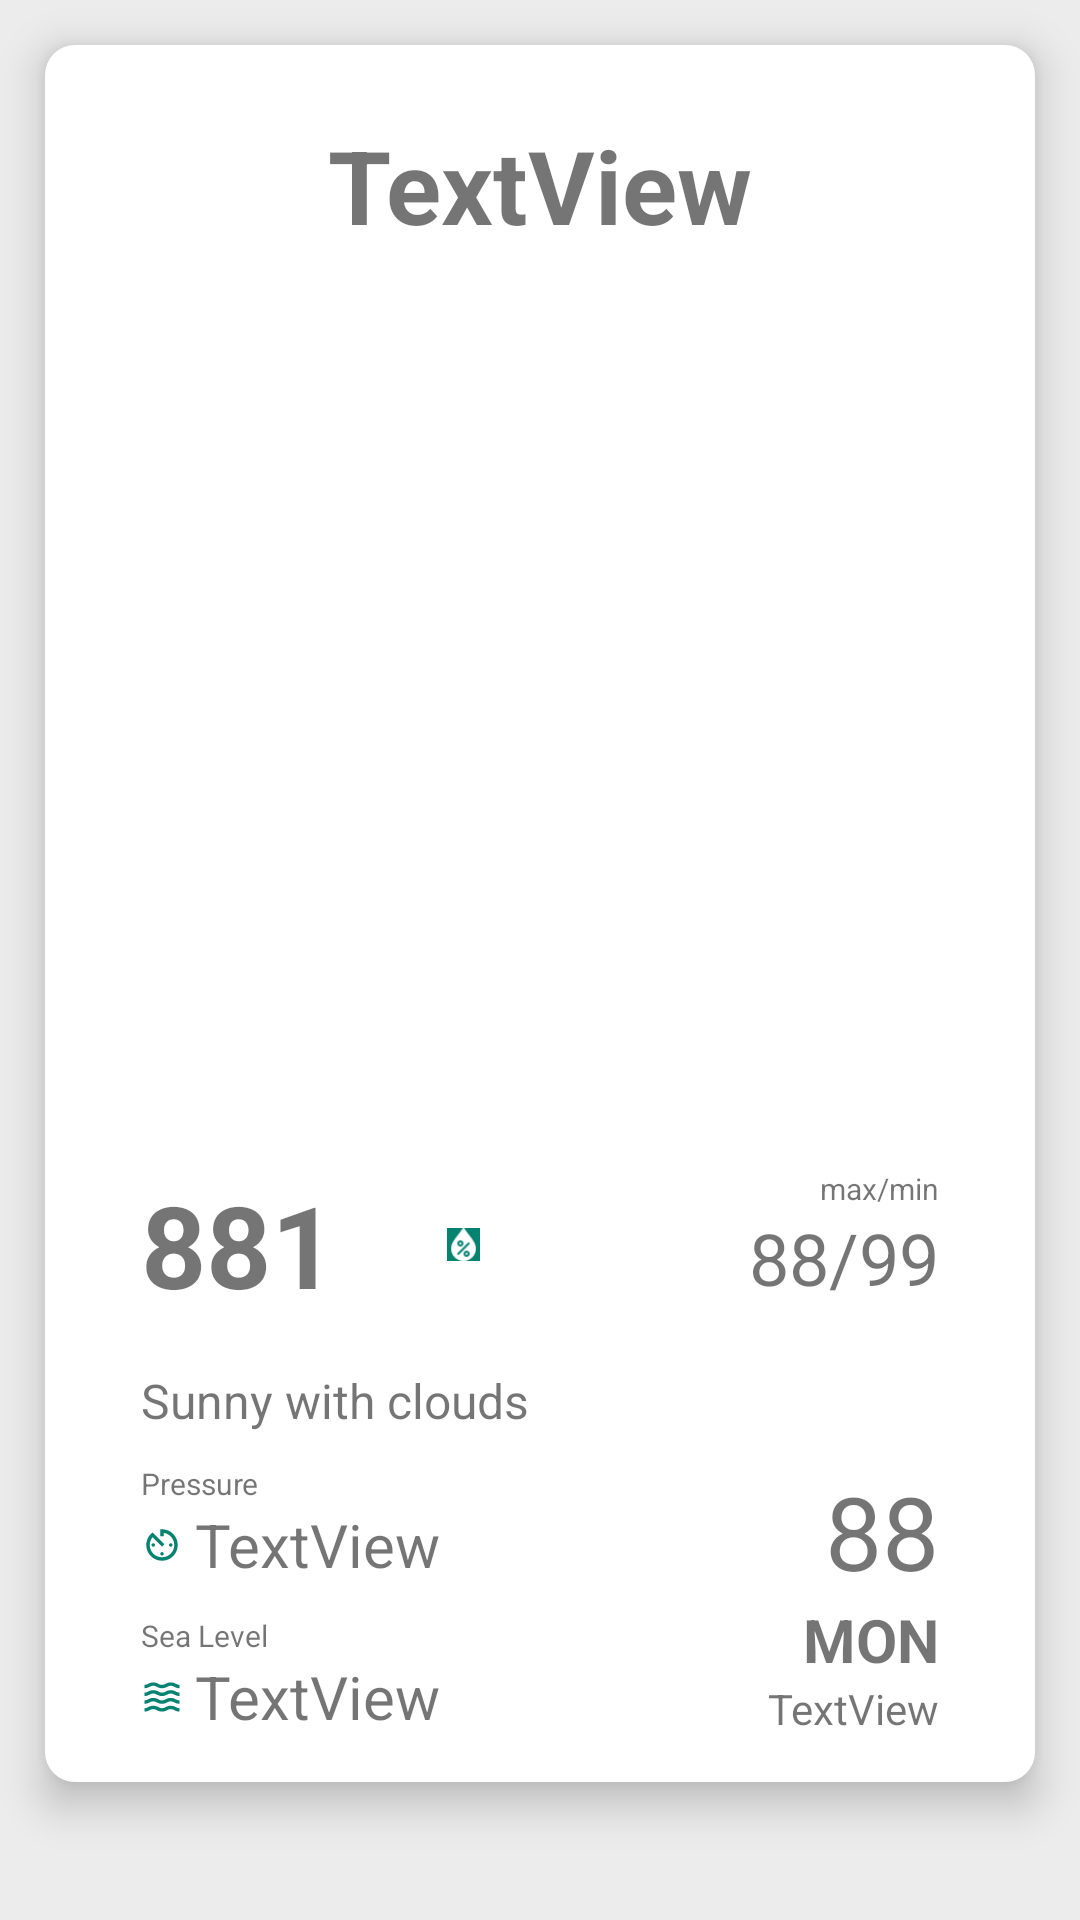

Icon click points for this 1080px×1920px phone screenshot, format point (x, y):
humitidy: point (463, 1244)
ocean: point (162, 1697)
